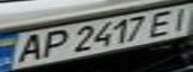1: (109, 16, 136, 45)
2: (69, 22, 97, 54)
4: (93, 19, 115, 48)
7: (124, 12, 154, 42)
A: (9, 31, 51, 64)
E: (142, 7, 184, 37)
I: (163, 4, 193, 33)
P: (33, 28, 72, 61)
